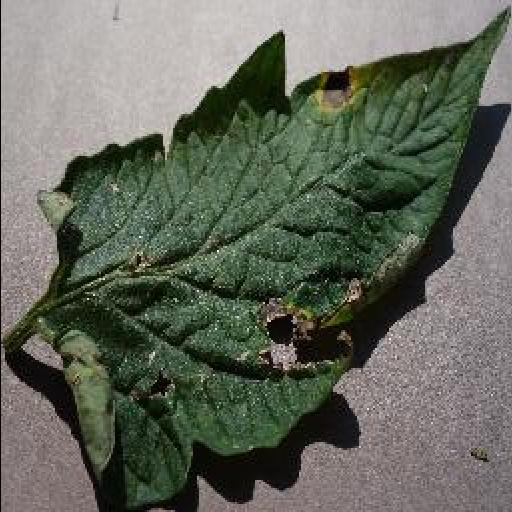Early Blight: (36, 4, 508, 510)
